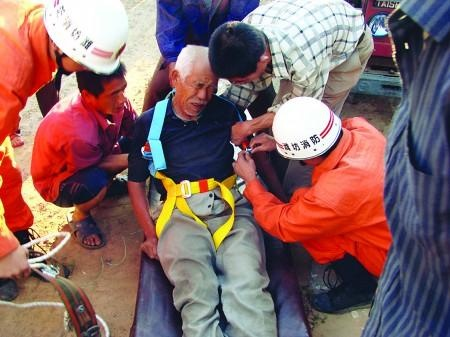falling: (126, 37, 283, 337)
